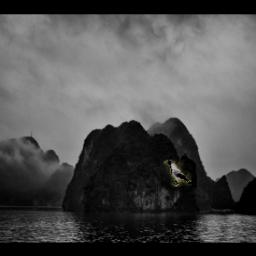Crow: (163, 160, 191, 186)
